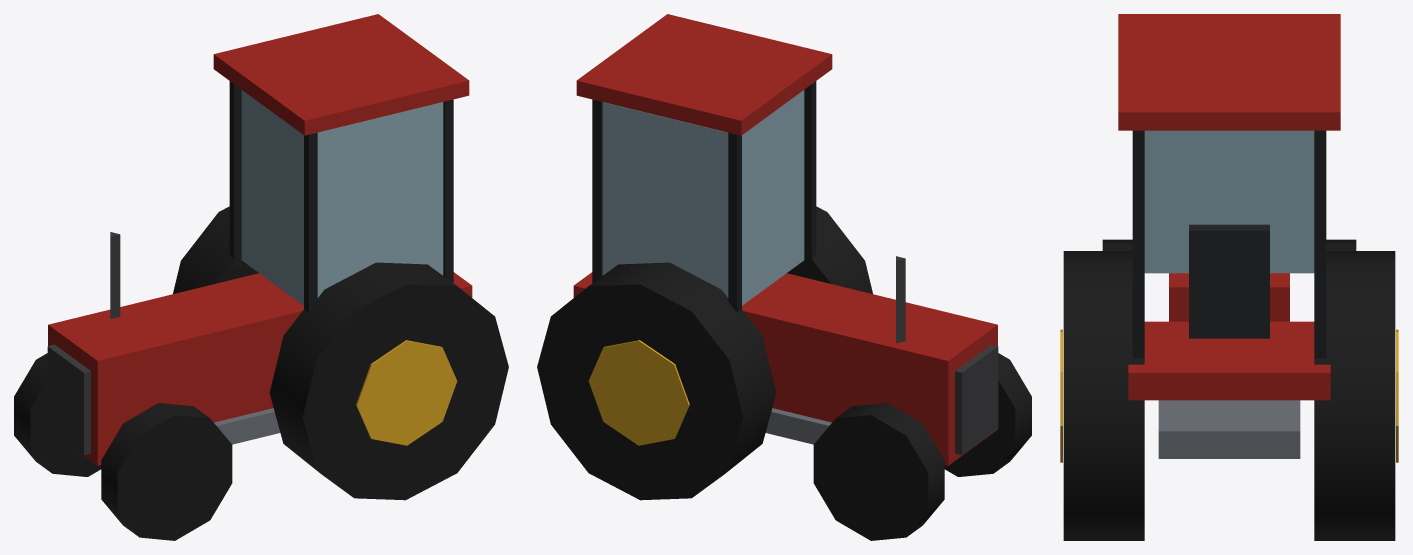
Rendered from tractor.glb.
3 views of the same model, side by side, from view 1: azimuth 30°, elevation 25°; view 2: azimuth 150°, elevation 25°; view 3: azimuth 270°, elevation 25° (orthographic). The views are drawn at different scales.
Visible parts, largest first — view 1: tractor; view 2: tractor; view 3: tractor.
Part boxes in pixels (x1=…): tractor: x1=14, y1=14, x2=508, y2=540; tractor: x1=537, y1=14, x2=1031, y2=540; tractor: x1=1060, y1=14, x2=1398, y2=540.
Bounding box in the file's own units: 2.62 × 2.55 × 1.67.
1 material, 1 textured.
